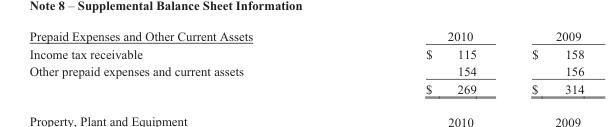table: (28, 29, 583, 95)
table column: (28, 29, 338, 95), (338, 29, 503, 95), (503, 29, 583, 95)
table column header: (28, 29, 583, 44)
table row: (28, 44, 583, 62), (28, 62, 583, 79), (28, 79, 583, 95), (28, 29, 583, 44)
